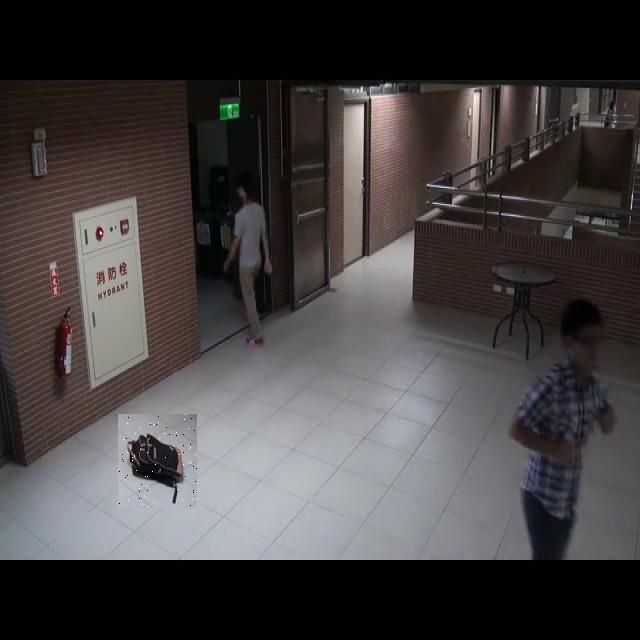abandoned-object: (118, 414, 197, 508)
